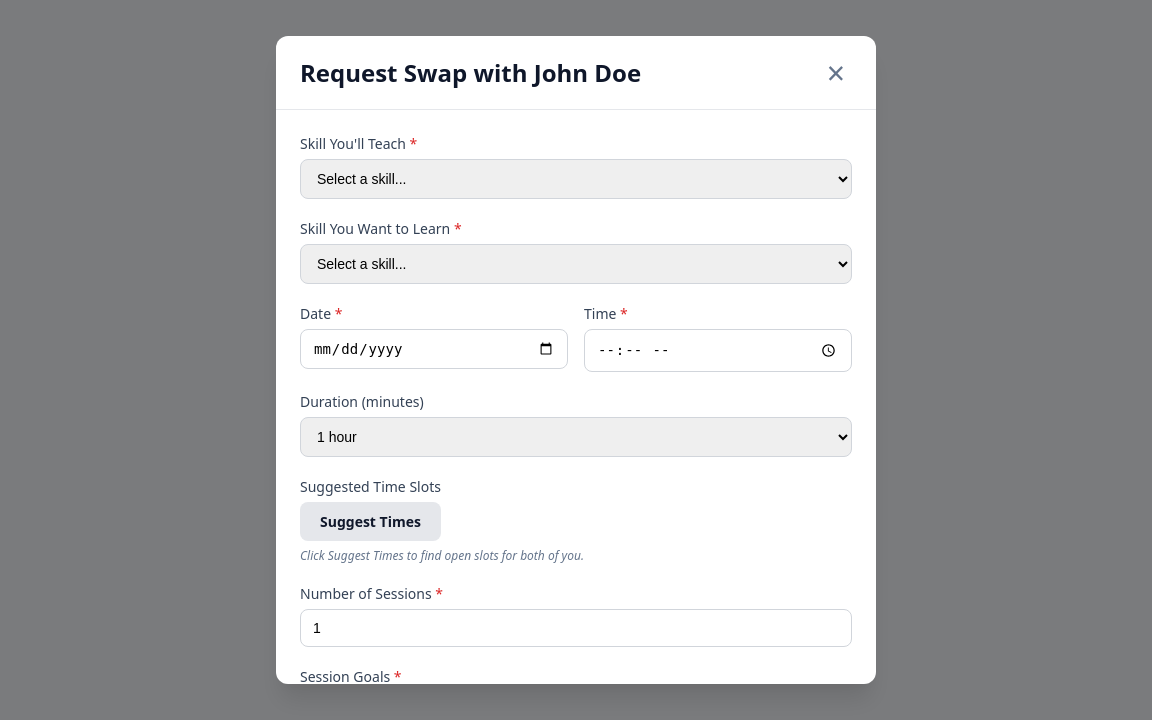
Test case: SwapRequestModal Component › loads suggested slots and applies one to date/time fields
Click the button "Suggest Times" at (370, 521), box [300, 502, 441, 541]
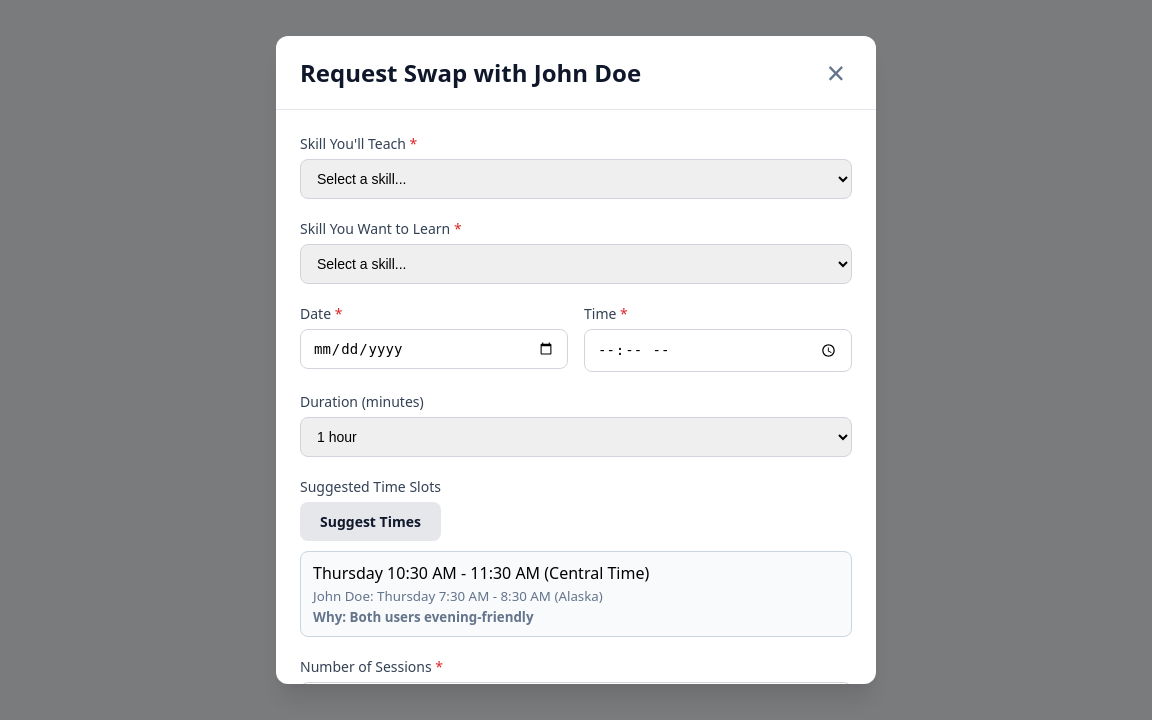
Check: the text "Thursday 10:30 AM - 11:30 AM (Central Time)" is shown, box [313, 562, 649, 584]
Check: the text "Why: Both users evening-friendly" is shown, box [313, 608, 534, 626]
Click the button "Thursday 10:30 AM - 11:30 AM" at (576, 594), box [300, 551, 852, 637]
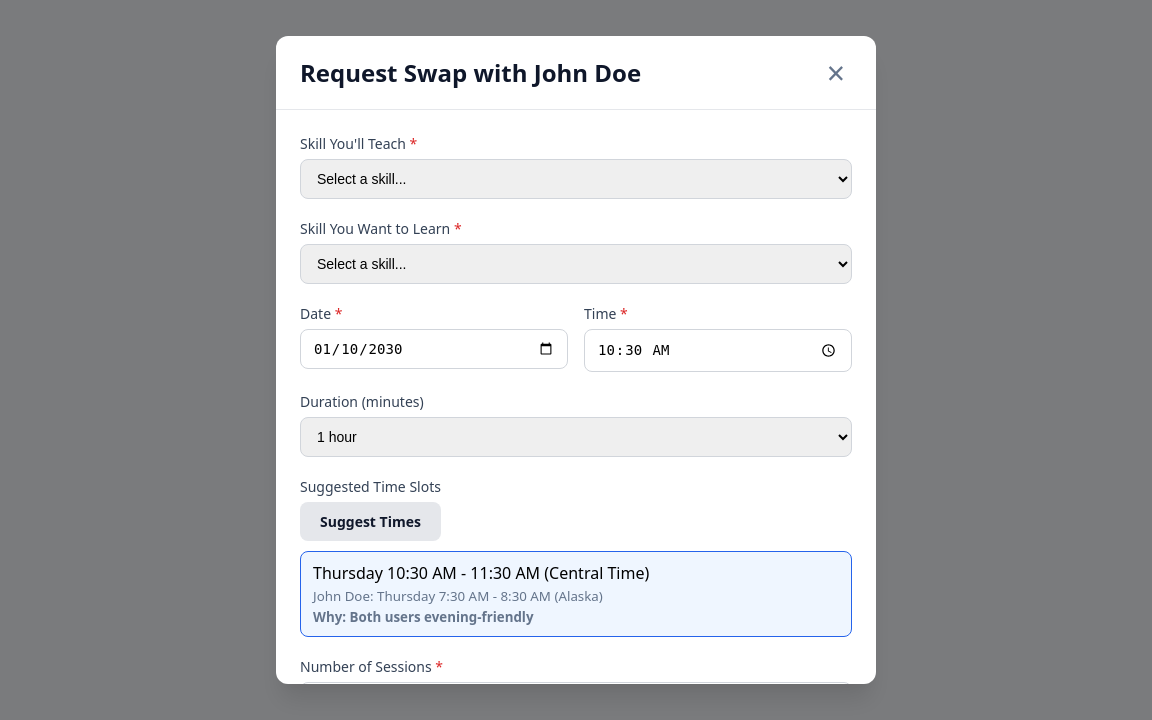
Check: the date field labelled "Date *" holds "2030-01-10", box [300, 329, 568, 369]
Check: the time field labelled "Time *" holds "10:30", box [584, 329, 852, 372]
